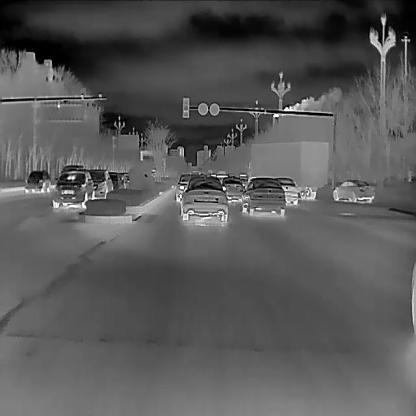car: (246, 141, 326, 199), (181, 177, 228, 224), (241, 176, 284, 216), (52, 172, 94, 210), (333, 180, 374, 202), (140, 149, 165, 180), (174, 175, 200, 203), (89, 169, 113, 199), (274, 176, 298, 205), (221, 175, 243, 202), (25, 171, 50, 193), (105, 170, 122, 192)
